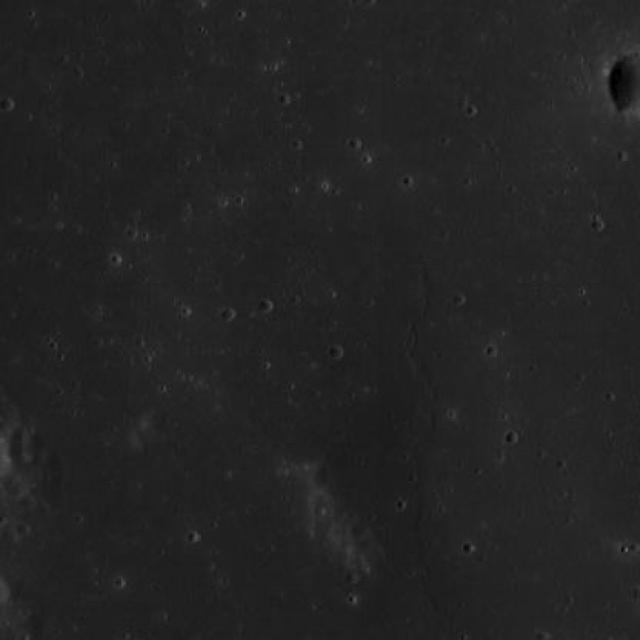crater: (2, 474, 24, 497), (8, 444, 28, 464), (12, 428, 30, 444)
